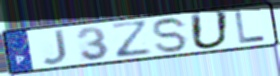3: (75, 24, 111, 62)
J: (40, 28, 70, 66)
L: (233, 11, 267, 45)
S: (150, 16, 190, 54)
U: (188, 10, 232, 51)
Z: (109, 19, 156, 60)
